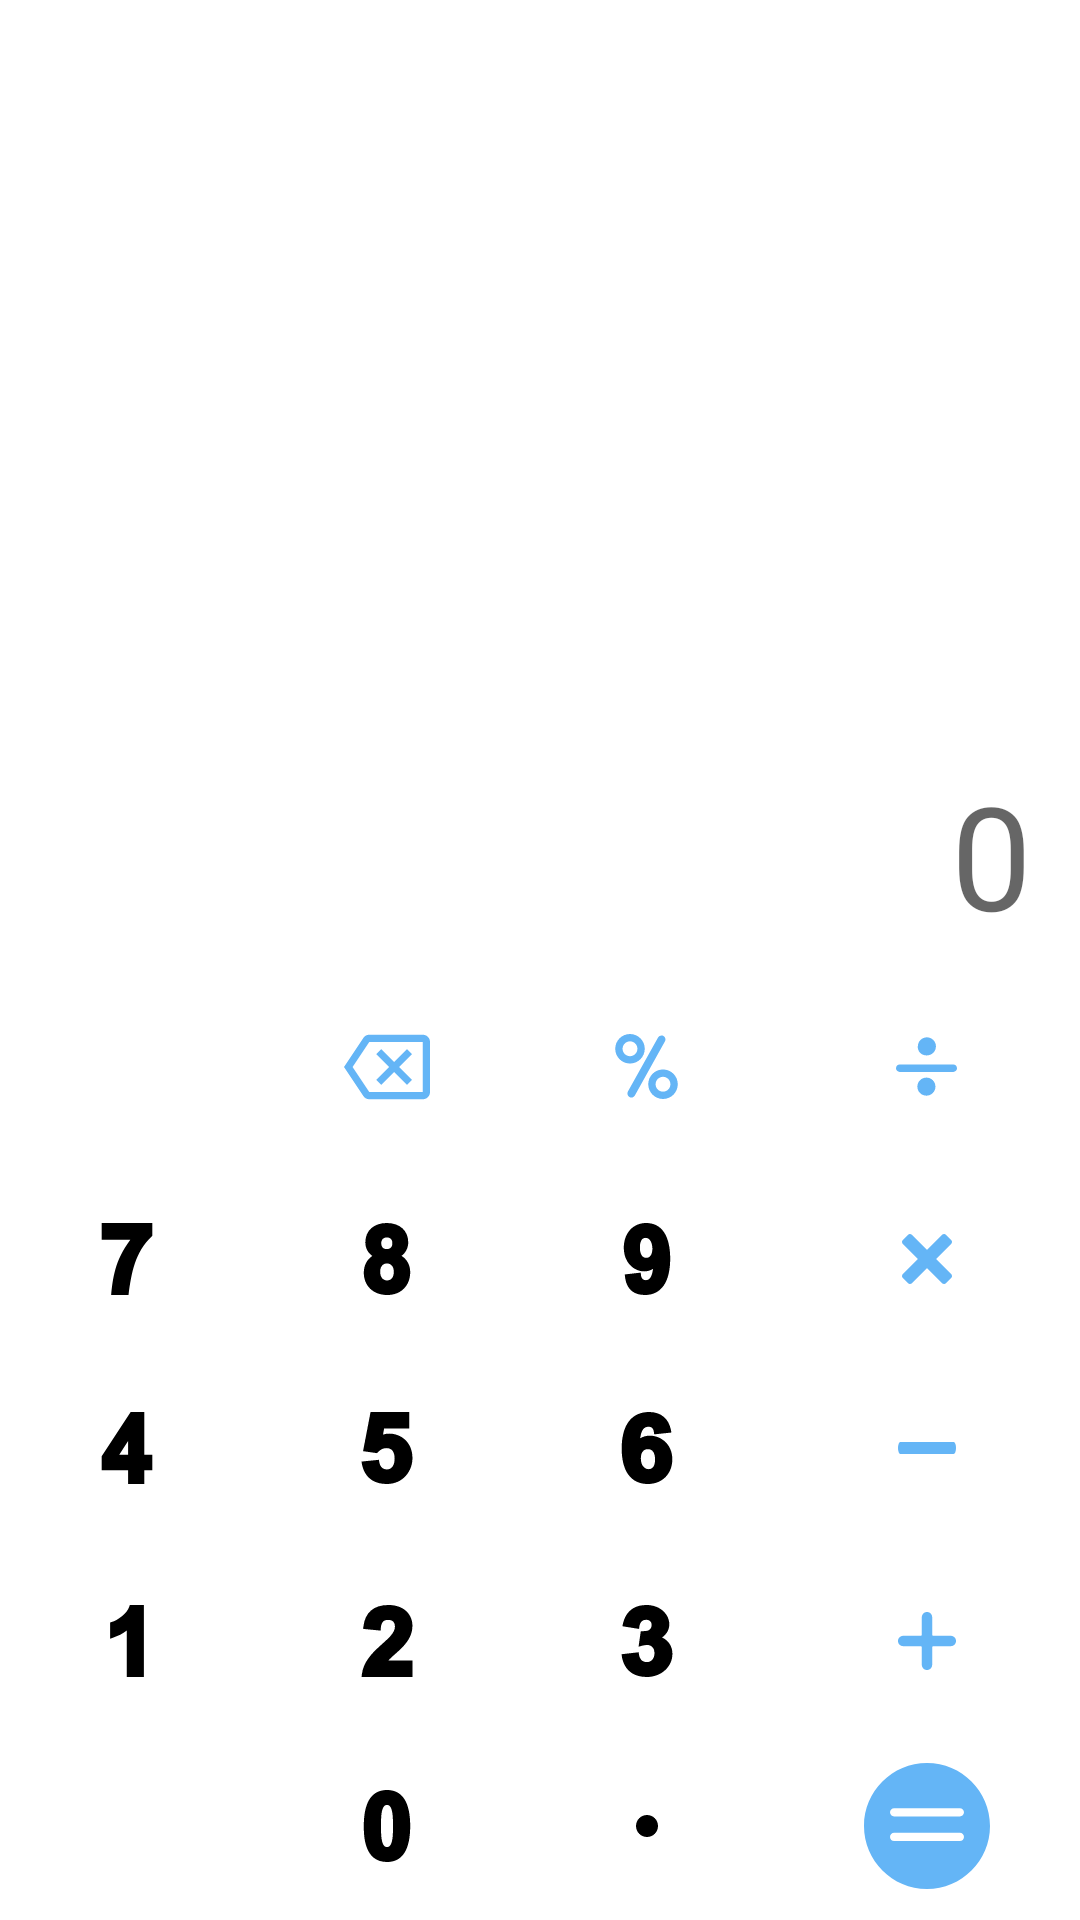

Where icons sit on this 1080px×1920px app screen, as [x1,y1,x2,y2]:
button backspace: [344,1034,430,1100]
button divide: [896,1037,957,1096]
button equal: [864,1763,990,1889]
button minus: [898,1442,956,1454]
button multiple: [902,1234,952,1284]
button percent: [615,1034,678,1099]
button plus: [898,1612,956,1670]
